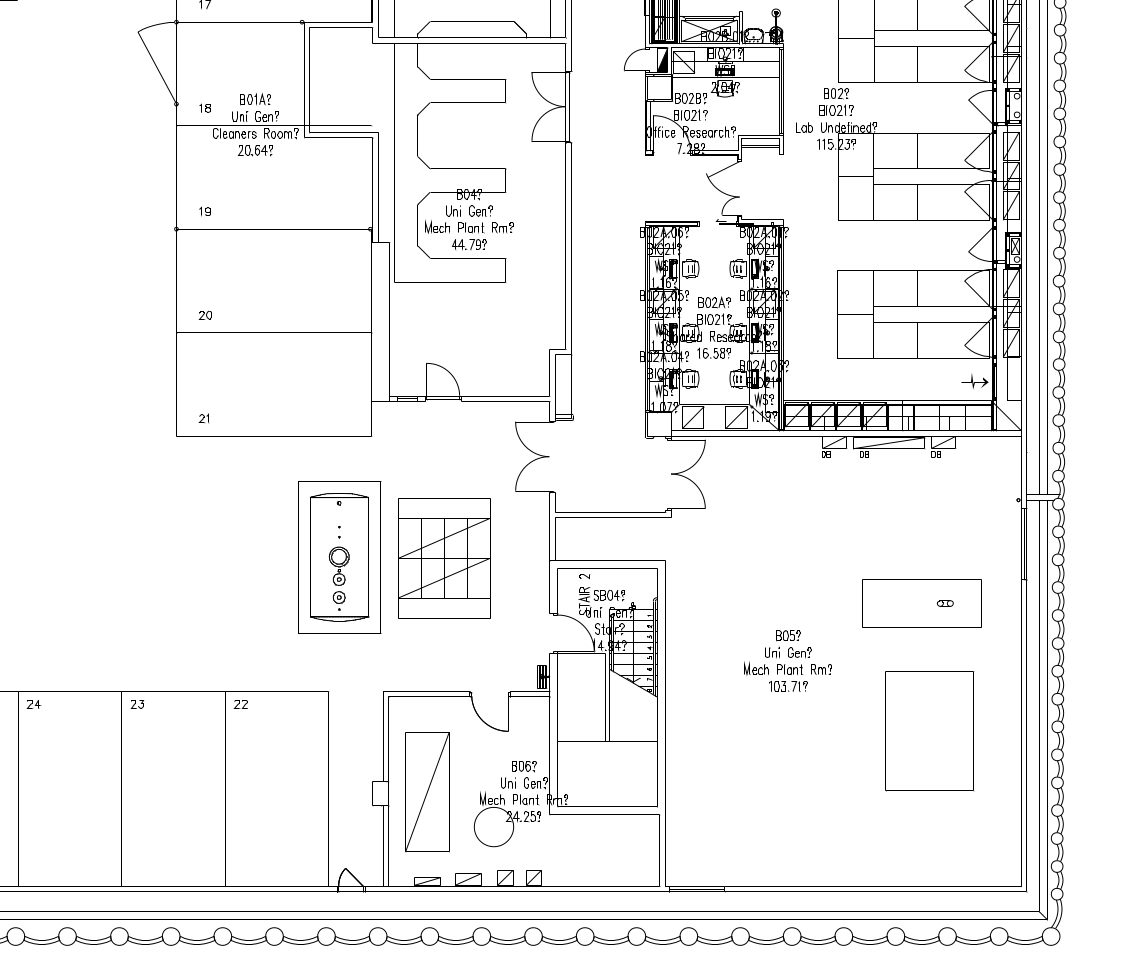door: (508, 415, 549, 498), (668, 436, 709, 519), (525, 67, 566, 150), (469, 687, 516, 740), (549, 607, 596, 660), (417, 354, 464, 407), (702, 159, 743, 219), (336, 855, 366, 896), (616, 44, 642, 81)
